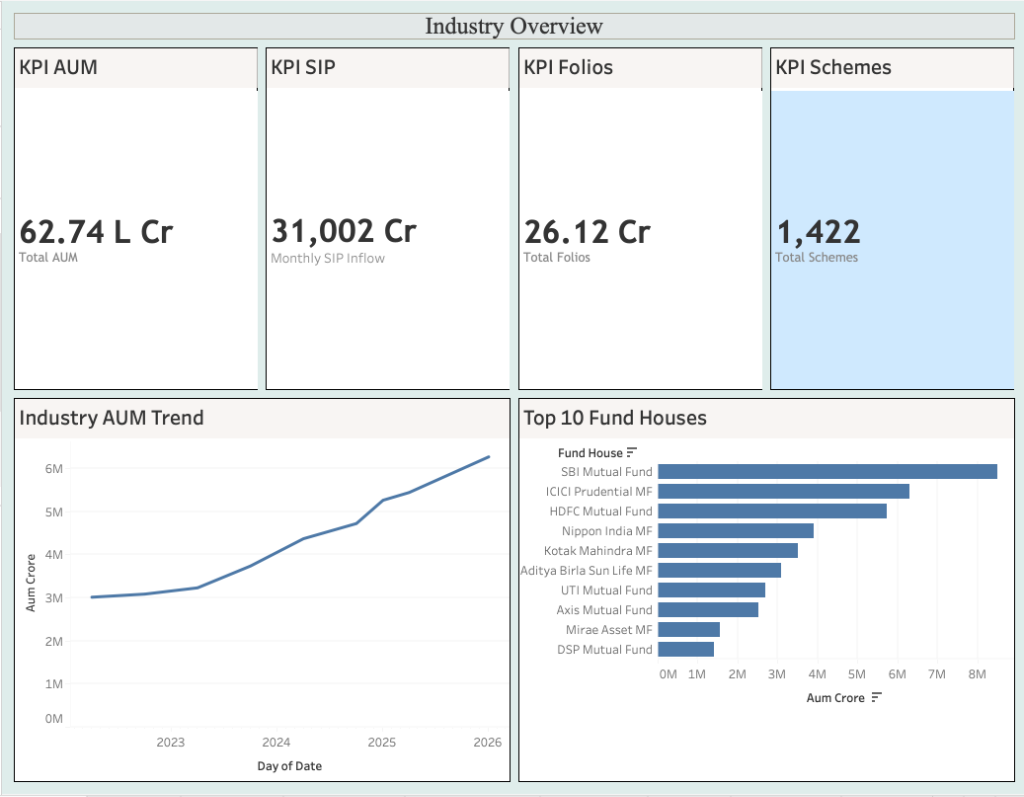

Layout of this report page (visuals, bound fields, positions):
{"tool":"tableau","page":{"name":"Industry Overview","canvas":[1000,1000],"units":"permille","ordinal":2},"visuals":[{"type":"worksheet","title":"KPI AUM","mark":"Automatic","box":[7.7,10,246.1,462.7]},{"type":"worksheet","title":"KPI SIP","mark":"Automatic","box":[253.8,10,246.1,462.7]},{"type":"worksheet","title":"KPI Folios","mark":"Automatic","box":[500,10,246.1,462.7]},{"type":"worksheet","title":"KPI Schemes","mark":"Automatic","box":[746.1,10,246.1,462.7]},{"type":"worksheet","title":"Industry AUM Trend","mark":"Automatic","rows":["aum_crore"],"cols":["date"],"box":[7.7,472.6,492.3,517.4]},{"type":"worksheet","title":"Top 10 Fund Houses","mark":"Automatic","rows":["fund_house"],"cols":["aum_crore"],"box":[500,472.6,492.3,517.4]}]}

Visuals, with their boxes on the dashboard's canvas, which has no fixed pixel size, in thousandths of its width and height (x1, y1, x2, y2). These are canvas units, not pixel positions in the 1024x797 screenshot, which may show the page scaled, cropped or inside an application window:
"KPI AUM" worksheet: {"left": 8, "top": 10, "right": 254, "bottom": 473}
"KPI SIP" worksheet: {"left": 254, "top": 10, "right": 500, "bottom": 473}
"KPI Folios" worksheet: {"left": 500, "top": 10, "right": 746, "bottom": 473}
"KPI Schemes" worksheet: {"left": 746, "top": 10, "right": 992, "bottom": 473}
"Industry AUM Trend" worksheet: {"left": 8, "top": 473, "right": 500, "bottom": 990}
"Top 10 Fund Houses" worksheet: {"left": 500, "top": 473, "right": 992, "bottom": 990}
